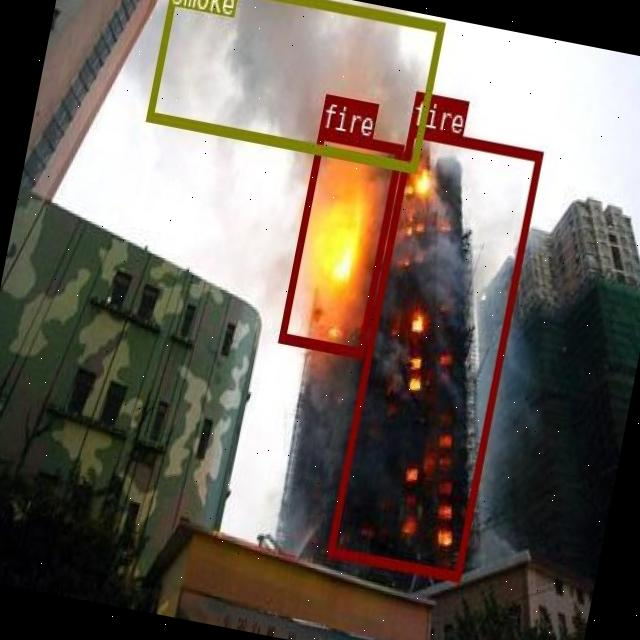fire: (326, 124, 542, 582), (278, 127, 404, 356)
smoke: (145, 0, 444, 170)
